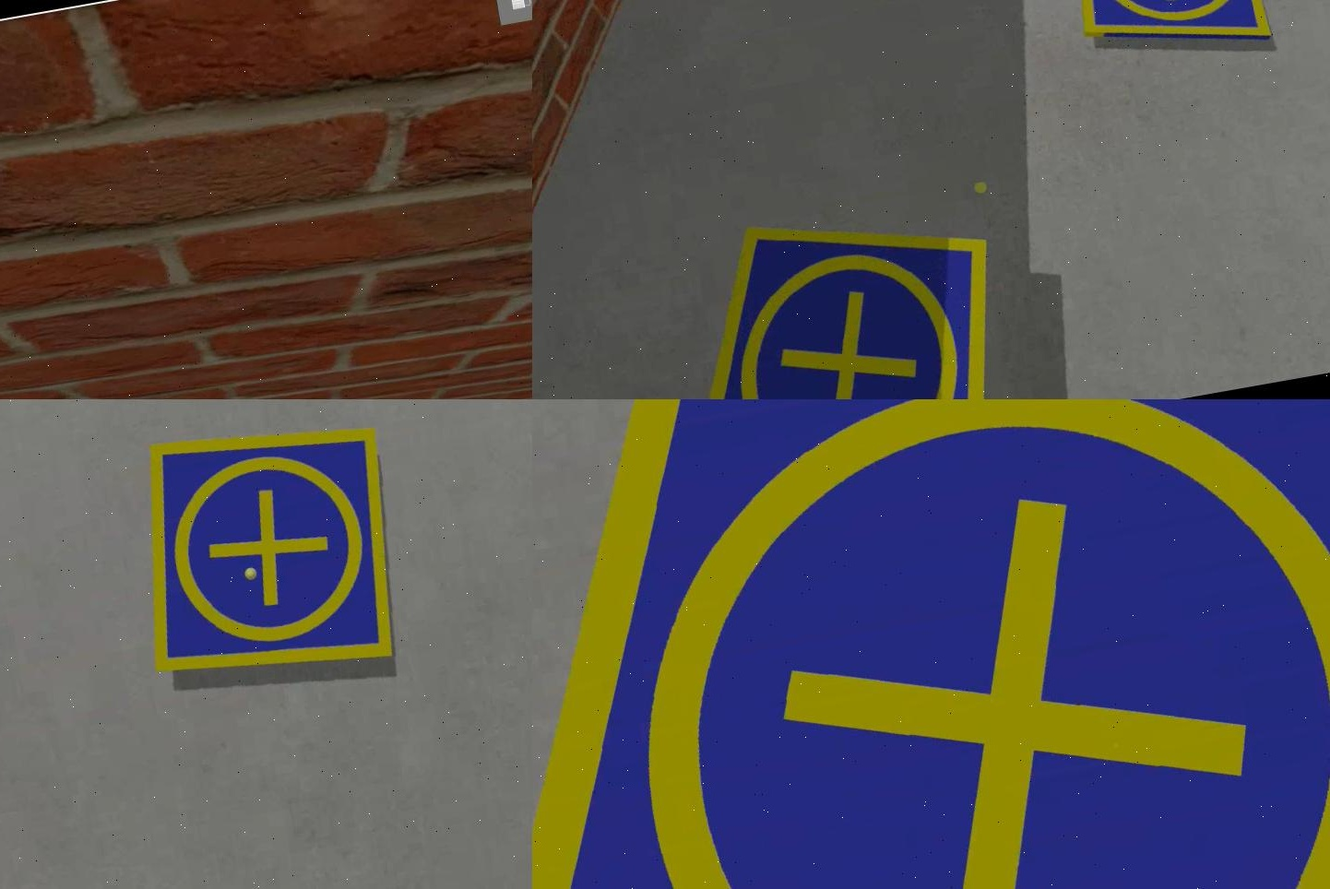small_base: (531, 400, 1328, 889), (110, 406, 415, 705), (640, 189, 1017, 400), (1058, 1, 1275, 75)
